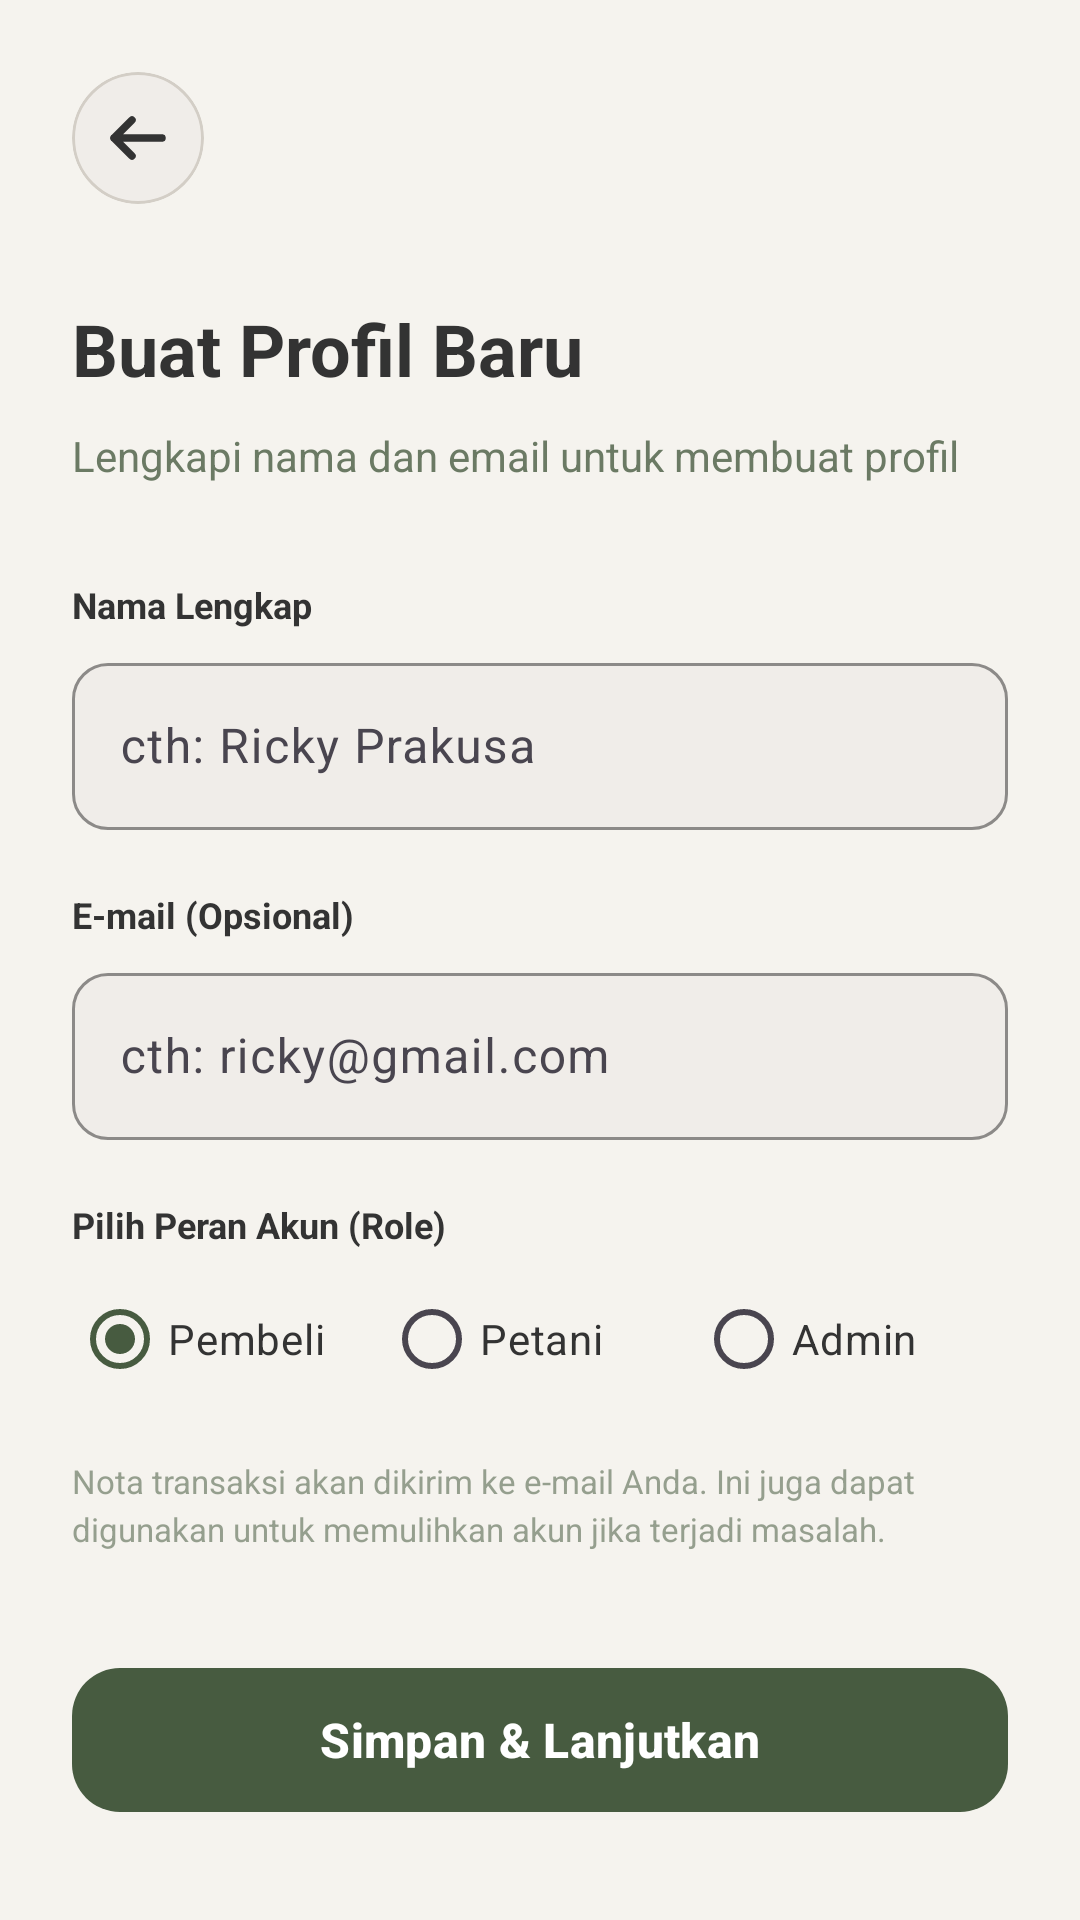

Screen size 1080×1920. Icon name, then its box in pixels as region(x1, y1, x2, y2):
back arrow: region(110, 116, 166, 160)
